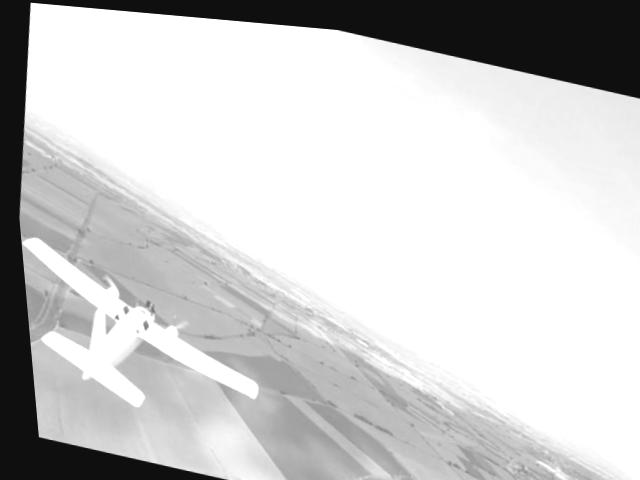hedef: (15, 219, 285, 443)
